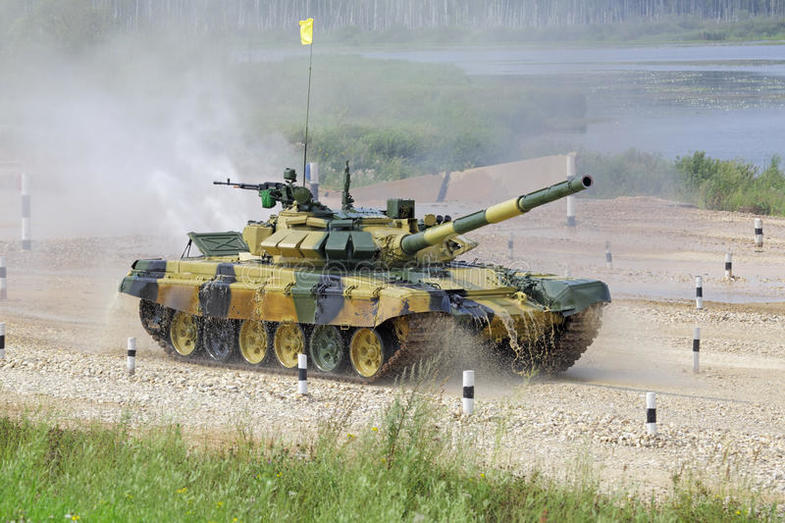t72: (119, 170, 618, 374)
